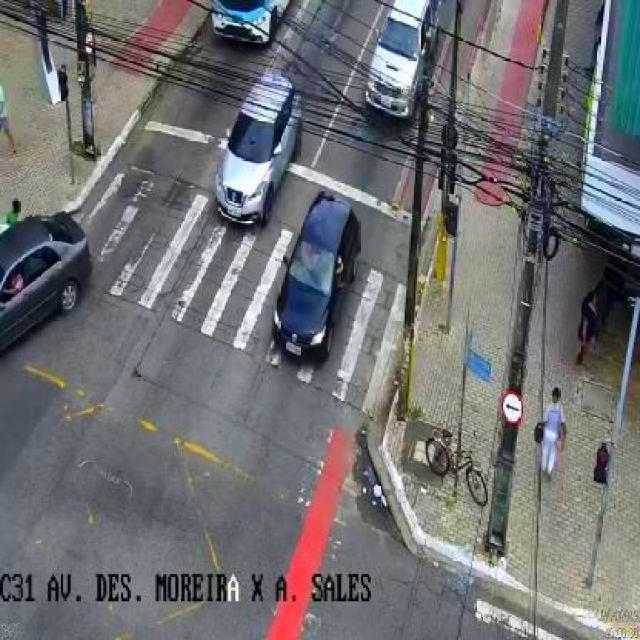Car: (271, 192, 365, 370), (0, 206, 100, 373), (208, 68, 308, 233), (357, 0, 450, 126)
Cycle: (422, 429, 494, 506)
